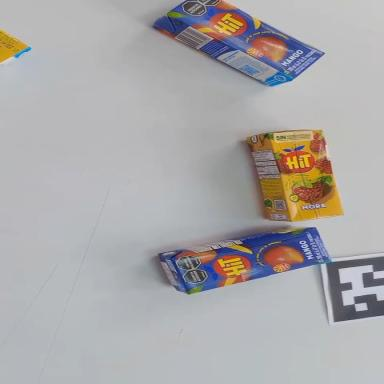HIT-MANGO: (153, 0, 324, 102), (158, 217, 330, 298)
HIT-MORA: (246, 118, 344, 233), (0, 21, 30, 66)
cara_F: (166, 0, 325, 87), (174, 225, 333, 296), (268, 120, 344, 228), (0, 28, 28, 63)
